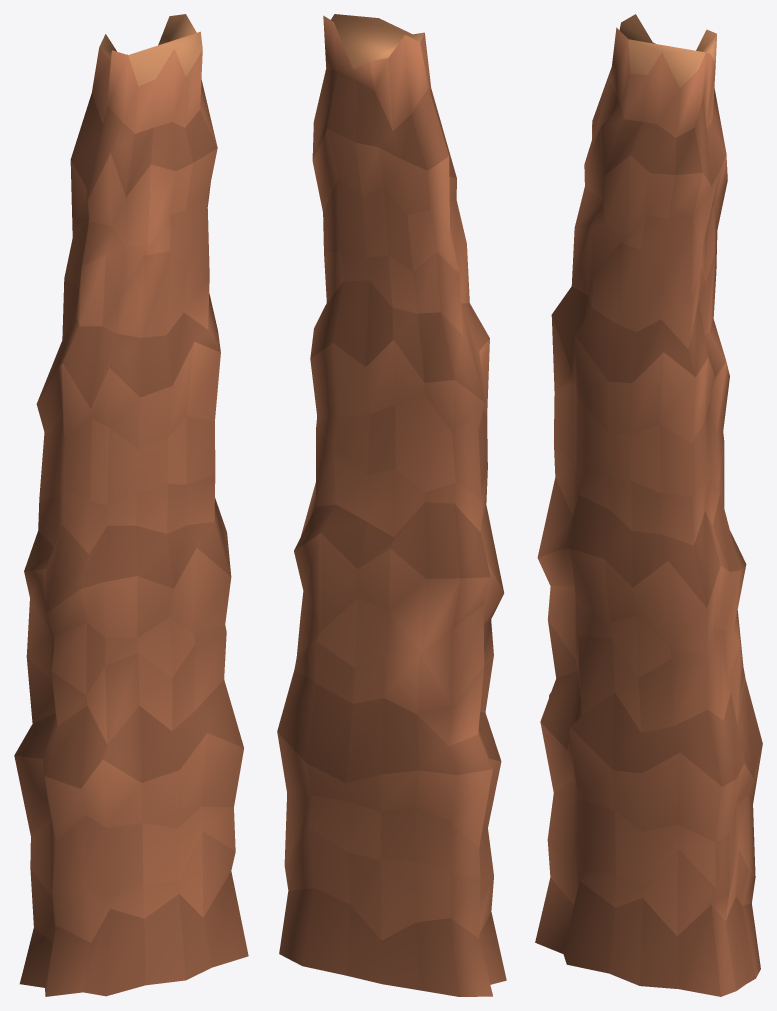
The model's file is wind-blade.glb.
3 views of the same model, side by side, from view 1: azimuth 30°, elevation 25°; view 2: azimuth 150°, elevation 25°; view 3: azimuth 330°, elevation 25° (orthographic).
Visible parts, largest first — view 1: wind-blade; view 2: wind-blade; view 3: wind-blade.
Boxes of the visible parts, left/top/right/bottom form: wind-blade: left=14, top=14, right=248, bottom=996; wind-blade: left=277, top=14, right=506, bottom=996; wind-blade: left=535, top=14, right=762, bottom=996.
Size of the model in its own units: 36.57 by 154 by 16.66.
